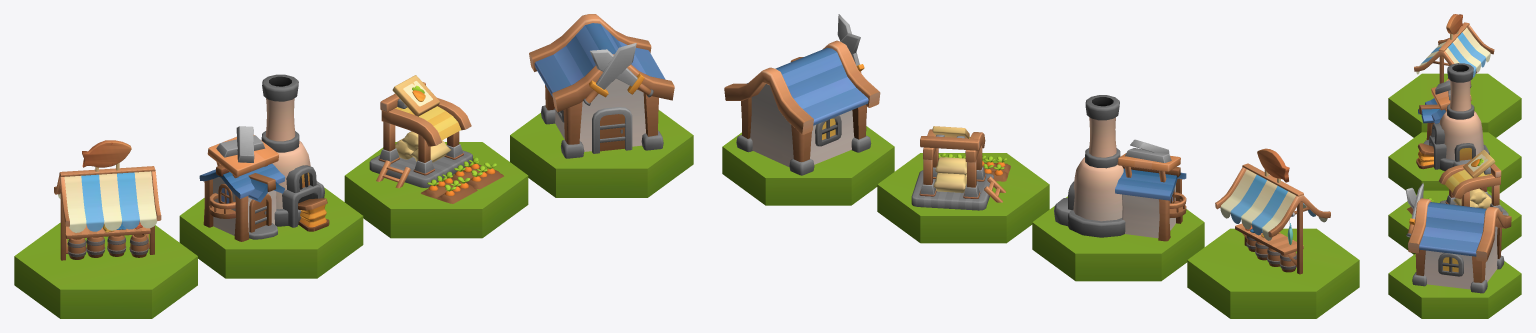
The model's file is casual_village_buildings_pack.glb.
3 views of the same model, side by side, from view 1: azimuth 30°, elevation 25°; view 2: azimuth 150°, elevation 25°; view 3: azimuth 270°, elevation 25° (orthographic). The views are drawn at different scales.
Parts seen in each view (by area): view 1: Circle, Barracks, ForgeHouse, FishermanMarket, FarmCarrot; view 2: Circle, Barracks, ForgeHouse, FishermanMarket, FarmCarrot; view 3: Circle, Barracks, ForgeHouse, FarmCarrot, FishermanMarket.
Boxes of the visible parts, x1=… form: Circle: x1=14, y1=110, x2=693, y2=318; Barracks: x1=529, y1=14, x2=674, y2=158; ForgeHouse: x1=199, y1=74, x2=329, y2=241; FishermanMarket: x1=54, y1=140, x2=161, y2=260; FarmCarrot: x1=369, y1=75, x2=503, y2=203; Circle: x1=722, y1=126, x2=1359, y2=318; Barracks: x1=724, y1=14, x2=880, y2=175; ForgeHouse: x1=1054, y1=95, x2=1186, y2=241; FishermanMarket: x1=1215, y1=148, x2=1330, y2=274; FarmCarrot: x1=911, y1=126, x2=1010, y2=210; Circle: x1=1388, y1=73, x2=1521, y2=318; Barracks: x1=1406, y1=183, x2=1511, y2=293; ForgeHouse: x1=1416, y1=63, x2=1489, y2=171; FarmCarrot: x1=1407, y1=150, x2=1508, y2=215; FishermanMarket: x1=1414, y1=14, x2=1494, y2=87.
Size of the model in its own units: 32.52 by 7.74 by 8.16.
Materials: 1 (1 with a texture image).
